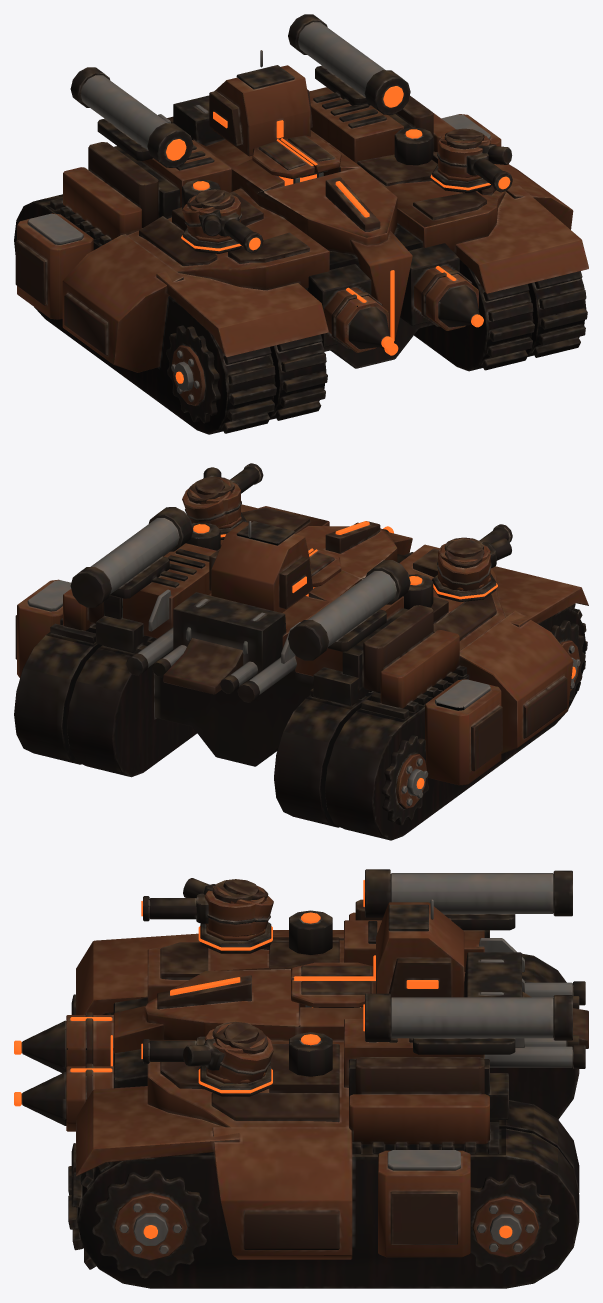
File: bastion-9-v5-remodel.glb
3 views of the same model, one above another, from view 1: azimuth 30°, elevation 25°; view 2: azimuth 150°, elevation 25°; view 3: azimuth 270°, elevation 25° (orthographic). The views are drawn at different scales.
Visible parts, largest first — view 1: bastion_hull, bastion_forward_cannon_right, bastion_forward_cannon_left, bastion_sprocket_left, bastion_gun_right, bastion_gun_left, bastion_battery_left_wreck, bastion_core_shutter_a, bastion_core_shutter_b, bastion_battery_right_wreck, bastion_battery_left, bastion_battery_right; view 2: bastion_hull, bastion_idler_left, bastion_battery_left_wreck, bastion_battery_right_wreck, bastion_gun_right, bastion_sprocket_left, bastion_gun_left, bastion_core_shutter_a, bastion_battery_left; view 3: bastion_hull, bastion_sprocket_right, bastion_idler_right, bastion_forward_cannon_right, bastion_forward_cannon_left, bastion_gun_left, bastion_battery_right_wreck, bastion_core_shutter_b, bastion_gun_right, bastion_battery_left_wreck, bastion_battery_left, bastion_core_shutter_a (+1 smaller).
Part boxes in pixels (x1,y1,x2,y2): bastion_hull: (14,14,588,434); bastion_forward_cannon_right: (400,243,483,330); bastion_forward_cannon_left: (308,264,393,352); bastion_sprocket_left: (166,325,220,423); bastion_gun_right: (437,128,512,192); bastion_gun_left: (188,189,263,253); bastion_battery_left_wreck: (182,189,240,253); bastion_core_shutter_a: (252,139,314,178); bastion_core_shutter_b: (280,135,341,172); bastion_battery_right_wreck: (432,133,512,192); bastion_battery_left: (181,227,241,253); bastion_battery_right: (430,164,491,192); bastion_hull: (14,504,588,840); bastion_idler_left: (381,735,428,825); bastion_battery_left_wreck: (432,538,511,601); bastion_battery_right_wreck: (182,467,241,539); bastion_gun_right: (189,463,263,525); bastion_sprocket_left: (550,620,585,700); bastion_gun_left: (437,524,512,580); bastion_core_shutter_a: (309,549,341,587); bastion_battery_left: (432,574,497,601); bastion_hull: (68,869,588,1288); bastion_sprocket_right: (92,1169,209,1278); bastion_idler_right: (470,1174,559,1273); bastion_forward_cannon_right: (14,1049,147,1131); bastion_forward_cannon_left: (14,997,147,1073); bastion_gun_left: (141,879,266,936); bastion_battery_right_wreck: (183,1022,273,1096); bastion_core_shutter_b: (291,978,375,1007); bastion_gun_right: (141,1021,265,1077); bastion_battery_left_wreck: (183,878,273,953); bastion_battery_left: (198,922,272,953); bastion_core_shutter_a: (291,962,375,980).
Bounding box in the file's own units: 9.8 × 5 × 8.99.
2 materials, 1 textured.
